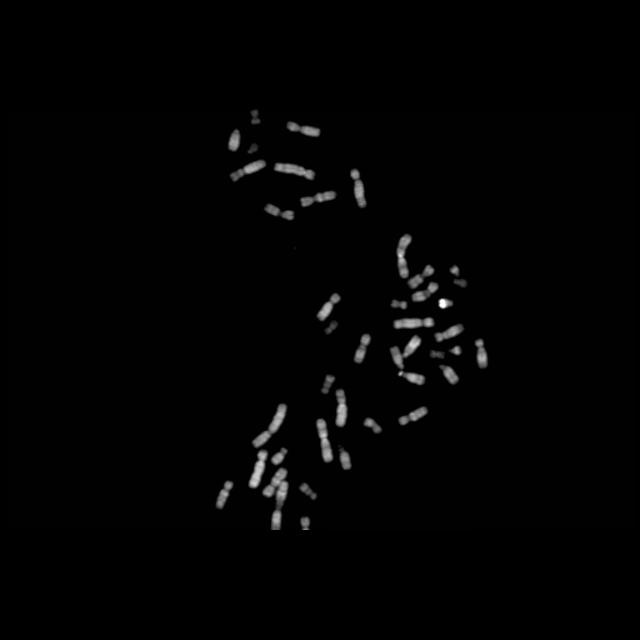chromosome: (252, 402, 288, 448), (268, 480, 290, 530), (314, 418, 334, 464), (228, 159, 266, 181), (395, 235, 413, 278), (273, 163, 315, 181), (262, 468, 288, 497), (248, 450, 267, 488), (350, 168, 368, 208), (317, 292, 341, 322), (302, 189, 336, 209), (408, 262, 434, 288), (353, 332, 371, 366), (286, 120, 320, 138), (409, 282, 438, 302), (398, 407, 428, 425), (215, 479, 233, 508), (401, 334, 421, 360), (435, 324, 463, 342), (394, 318, 434, 330), (265, 203, 293, 220), (334, 388, 346, 426), (396, 370, 424, 386), (437, 365, 459, 385), (474, 339, 488, 369), (270, 444, 288, 466), (337, 446, 351, 472), (298, 482, 317, 501), (390, 346, 406, 368), (363, 417, 382, 435), (322, 318, 340, 336), (320, 374, 334, 394), (228, 130, 240, 152), (248, 108, 262, 125), (299, 516, 313, 532), (448, 263, 462, 277), (438, 297, 454, 309), (391, 299, 407, 309), (430, 348, 444, 359), (450, 345, 462, 357), (454, 278, 466, 288)
